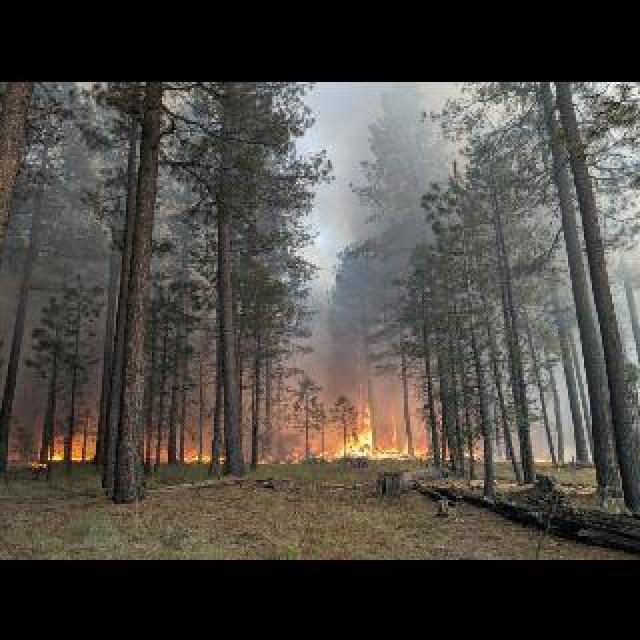zfire: (310, 406, 428, 460), (40, 442, 96, 462), (180, 448, 230, 466)
